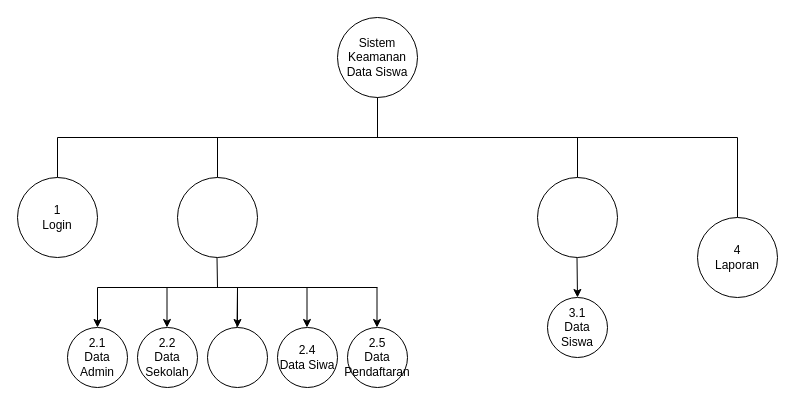
Some shapes in this 795 by 405 pixel diagram are drawn without their labels. Here are the shapes that lost their labels. From the top down, the centre of each, then its label:
At (x=217, y=217): "2 Master Data".
At (x=577, y=217): "3 Proses Enkripsi & Deskripsi".
At (x=237, y=357): "2.3 Data Guru".
